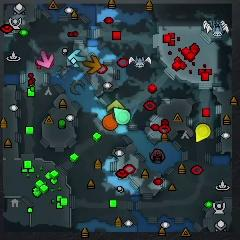p2: (113, 107, 132, 126)
p4: (195, 123, 211, 143)
p5: (101, 112, 119, 131)
x1: (36, 50, 55, 69)
x2: (106, 98, 127, 112)
x3: (67, 49, 88, 67)
x5: (83, 55, 101, 74)
